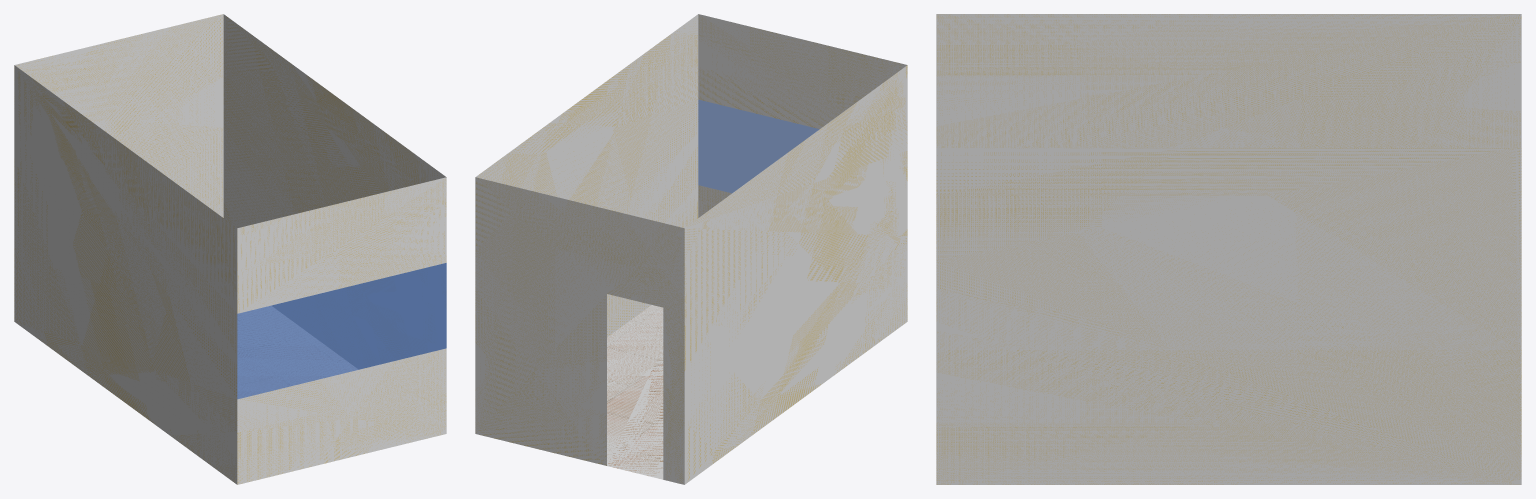
File: LAB005.obj
3 views of the same model, side by side, from view 1: azimuth 30°, elevation 25°; view 2: azimuth 150°, elevation 25°; view 3: azimuth 270°, elevation 25° (orthographic). The views are drawn at different scales.
Parts seen in each view (by area): view 1: Mesh1 LAB005 Model; view 2: Mesh1 LAB005 Model; view 3: Mesh1 LAB005 Model.
Boxes of the visible parts, x1=… form: Mesh1 LAB005 Model: x1=14, y1=14, x2=446, y2=484; Mesh1 LAB005 Model: x1=475, y1=14, x2=907, y2=484; Mesh1 LAB005 Model: x1=936, y1=14, x2=1521, y2=484.
Bounding box in the file's own units: 2.55 × 2.99 × 4.72.
5 materials, 1 textured.
